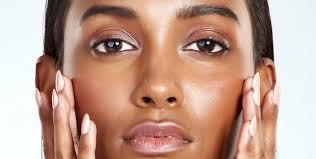Oily-Skin: (55, 9, 249, 159)
